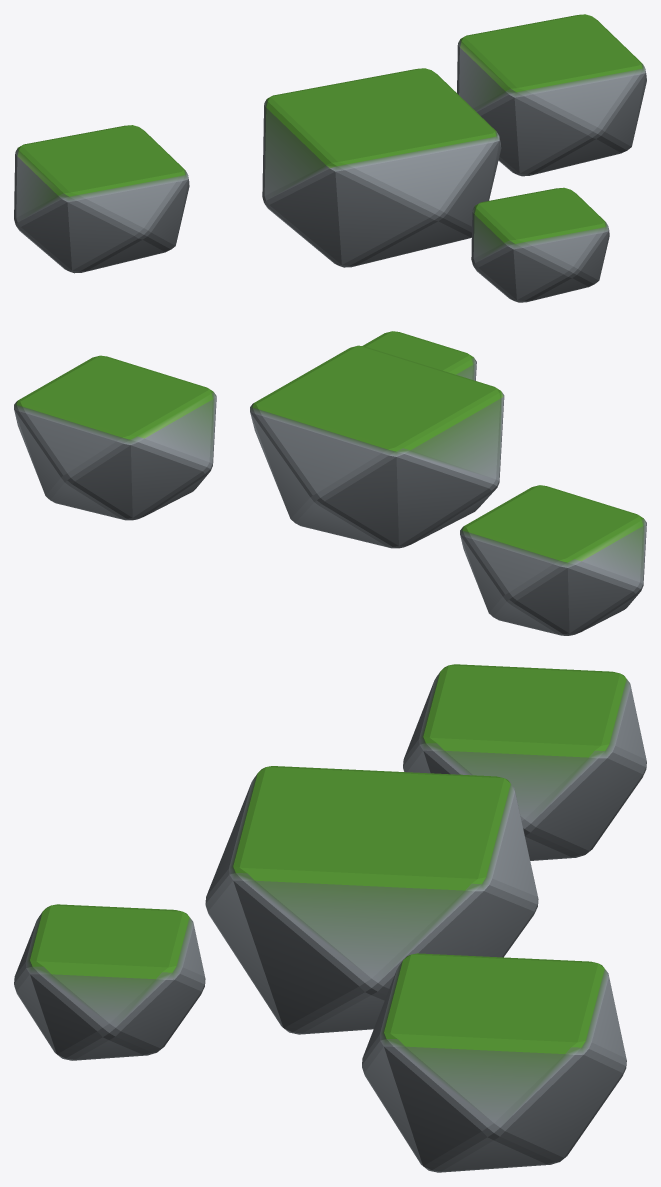
The model's file is Rock_Path_PebbleCluster_01.fbx.
3 renders of one model, top to bottom at view 1: azimuth 30°, elevation 25°; view 2: azimuth 150°, elevation 25°; view 3: azimuth 270°, elevation 25°, orthographic. The views are drawn at different scales.
Parts seen in each view (by area): view 1: Rock_Path_PebbleCluster_01; view 2: Rock_Path_PebbleCluster_01; view 3: Rock_Path_PebbleCluster_01.
Boxes of the visible parts, x1,y1,x2,y2 form: Rock_Path_PebbleCluster_01: [14, 14, 646, 302]; Rock_Path_PebbleCluster_01: [14, 331, 646, 635]; Rock_Path_PebbleCluster_01: [14, 664, 646, 1172].
Bounding box in the file's own units: 232 × 42 × 145.
